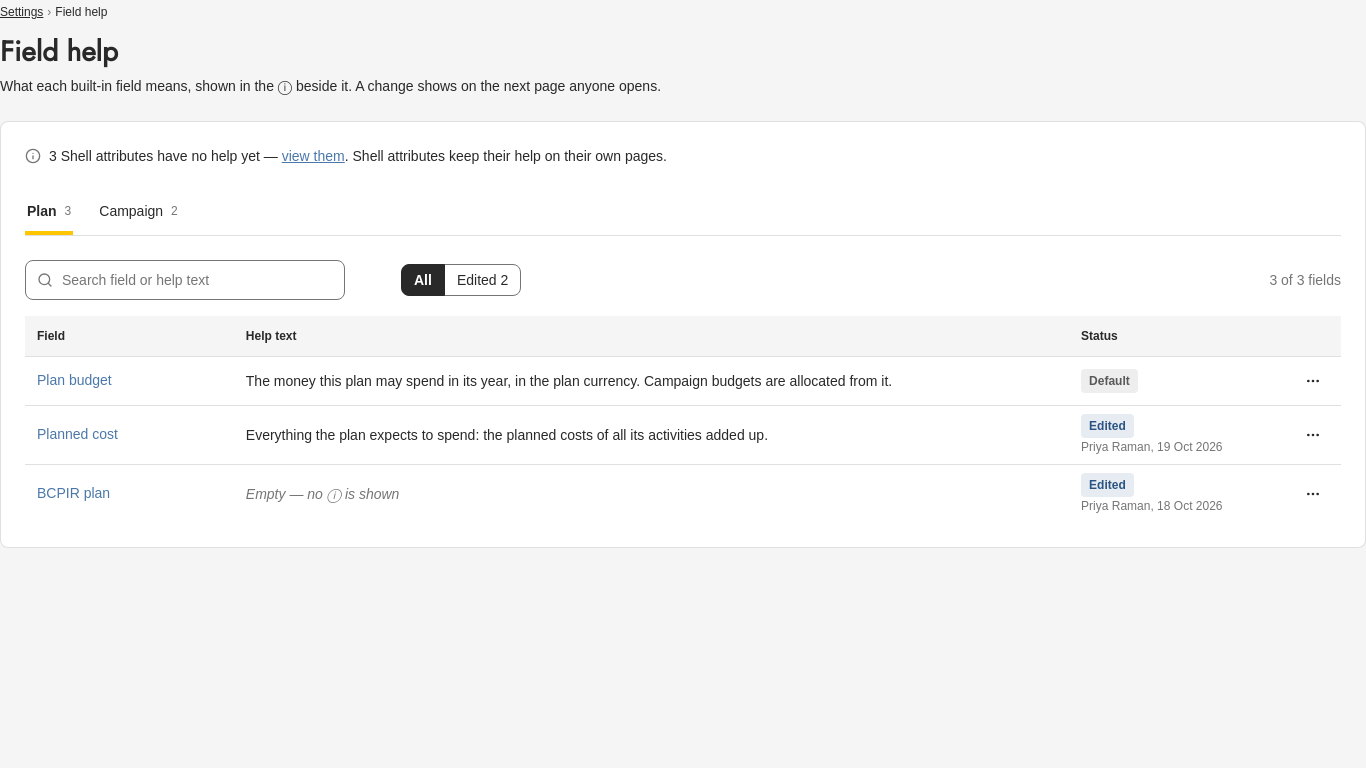
FieldHelpPage: edit and reset (016 FR-046) › names who saved first and keeps the typed text (001 FR-029)
Expected: the table is shown, [25,316,1341,522]
Click the button "Planned cost" at (78, 434), box [37,424,118,445]
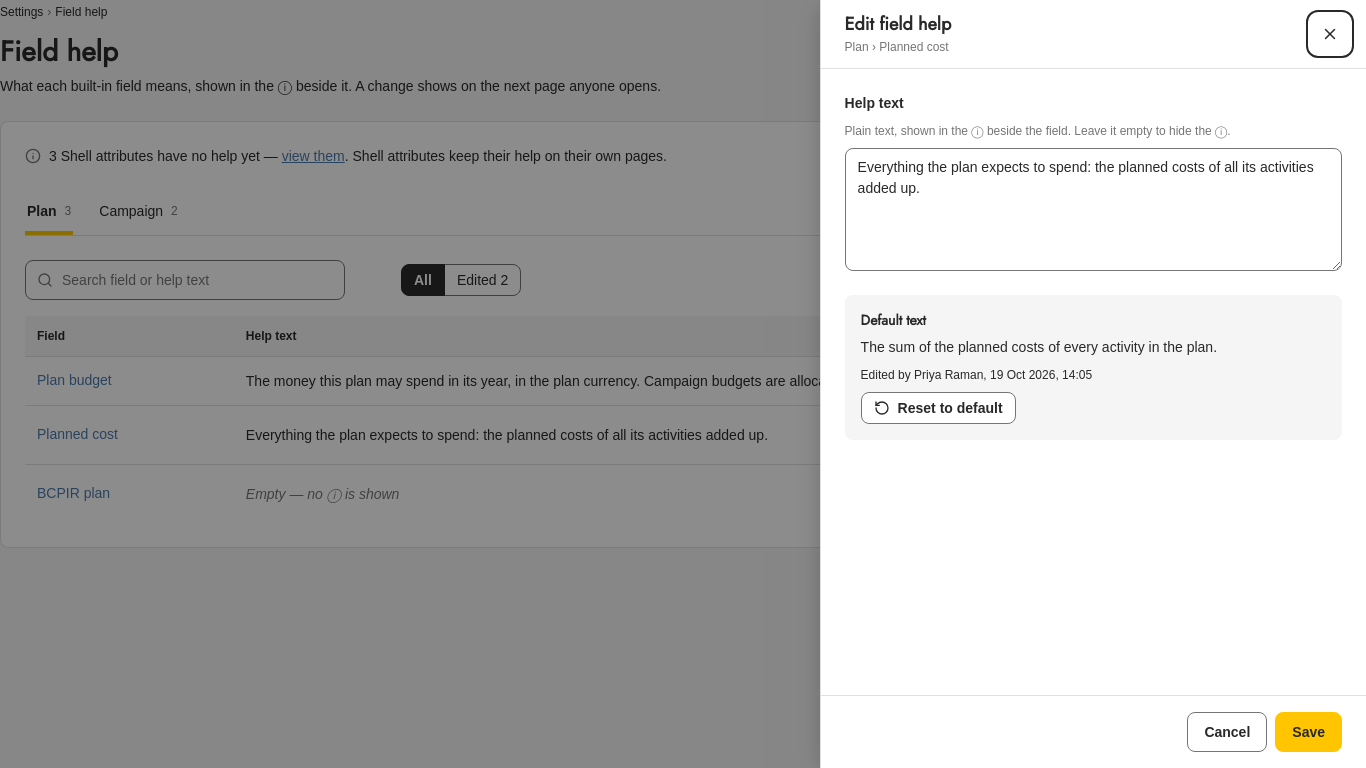
Type " More." into the text box labelled "Help text" at (1093, 210), box [845,148,1342,271]
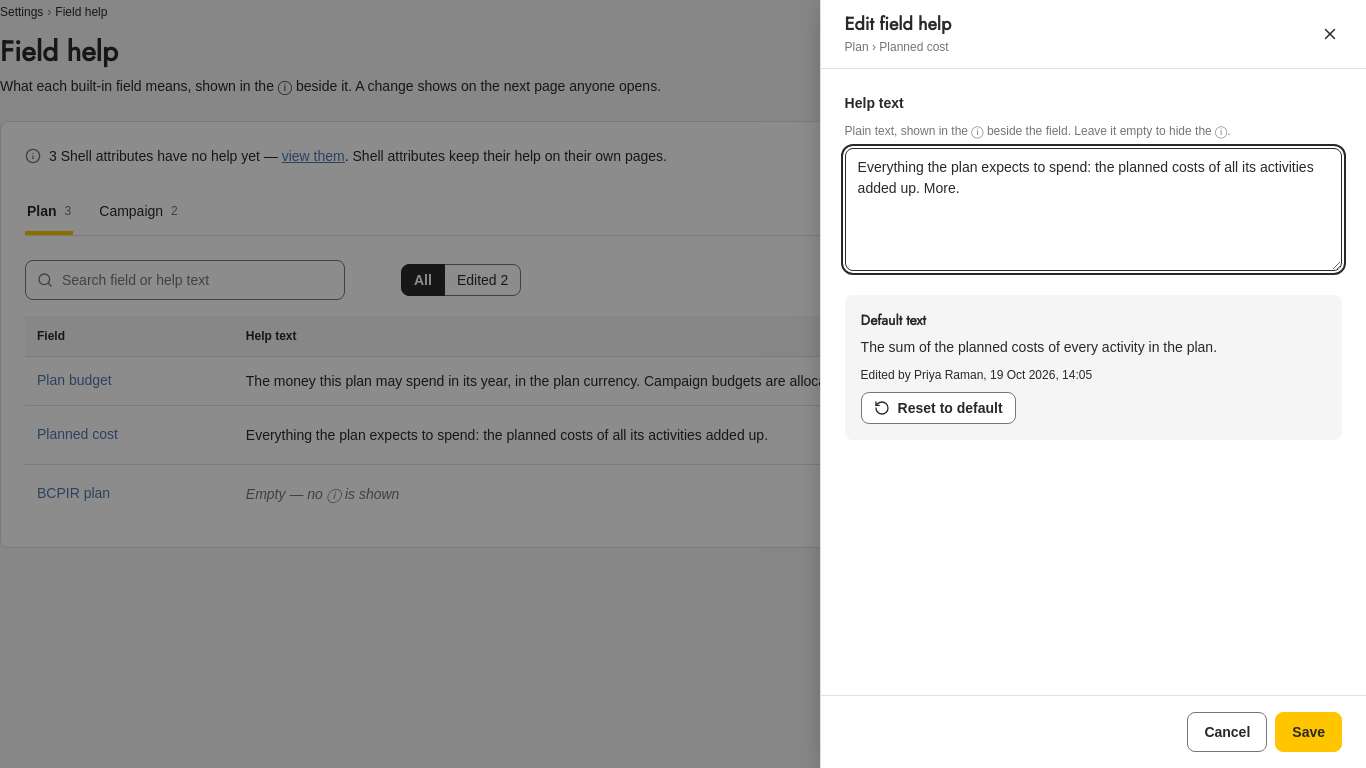
Click the button "Save" at (1309, 732), box [1275,712,1342,752]
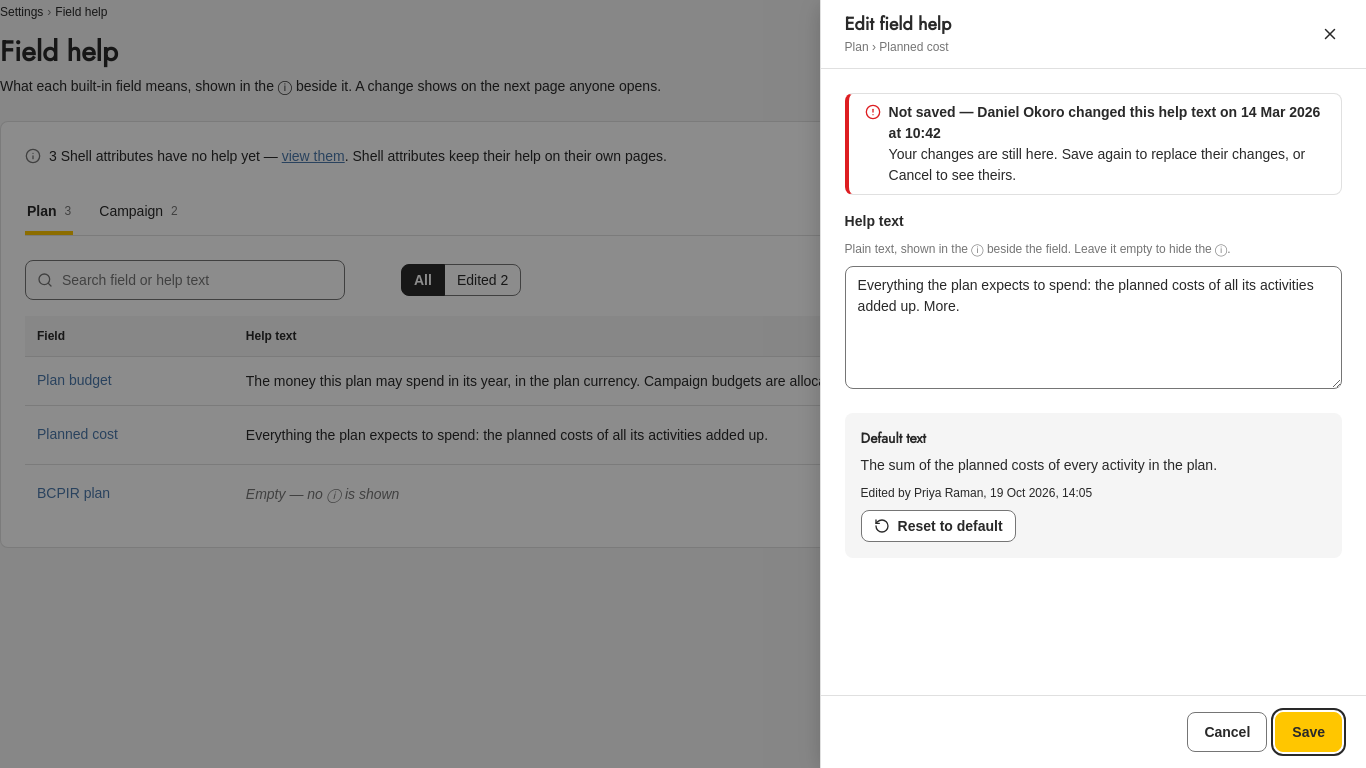
Now the text "Not saved — Daniel Okoro changed this help text" is shown, box [889,104,1320,141]
